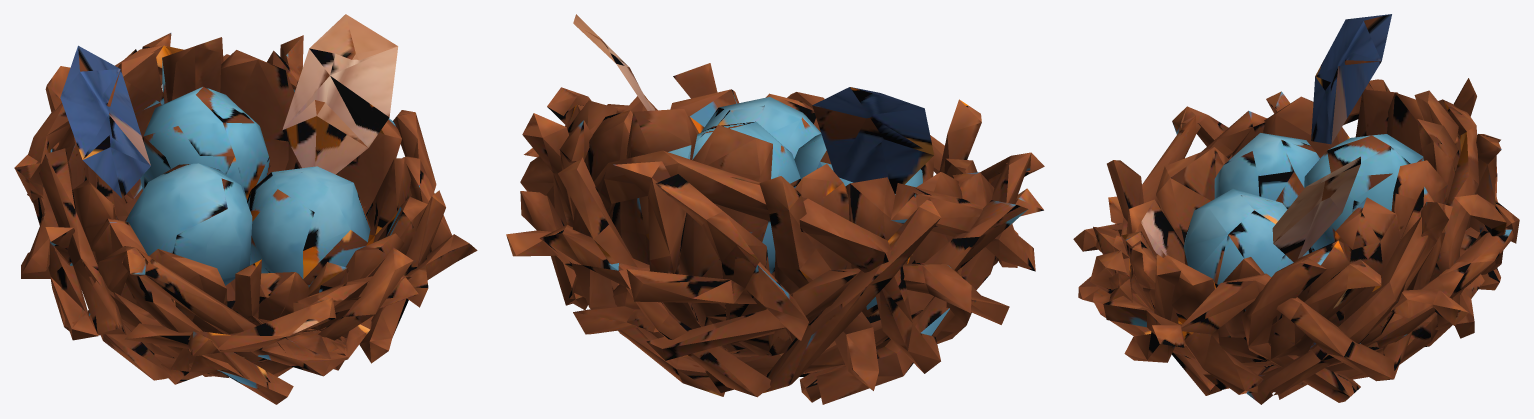
File: nido_2500.glb
The picture shows the model from 3 angles, left to right: view 1: azimuth 30°, elevation 25°; view 2: azimuth 150°, elevation 25°; view 3: azimuth 270°, elevation 25°; orthographic projection. The views are drawn at different scales.
Visible parts, largest first — view 1: nido_malla; view 2: nido_malla; view 3: nido_malla.
Part boxes in pixels (x1,y1,x2,y2): nido_malla: (14,14,477,404); nido_malla: (506,14,1044,404); nido_malla: (1073,14,1519,404).
Size of the model in its own units: 0.4559 by 0.359 by 0.4586.
1 material, 1 textured.
